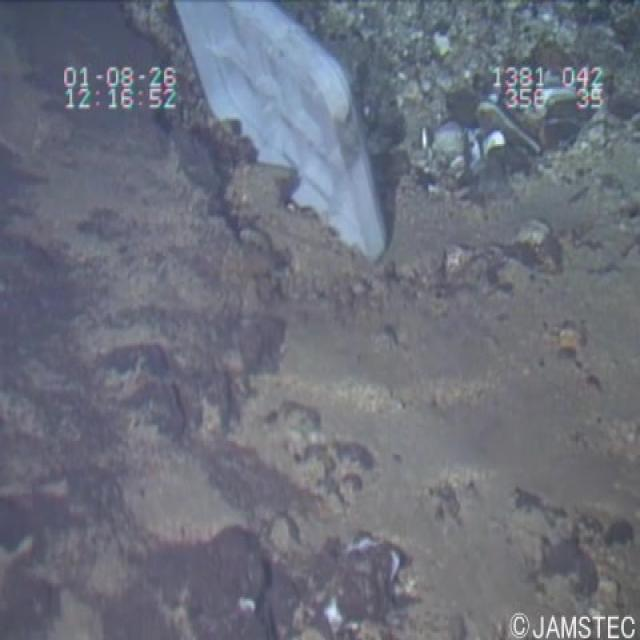plastic: (144, 0, 408, 270)
